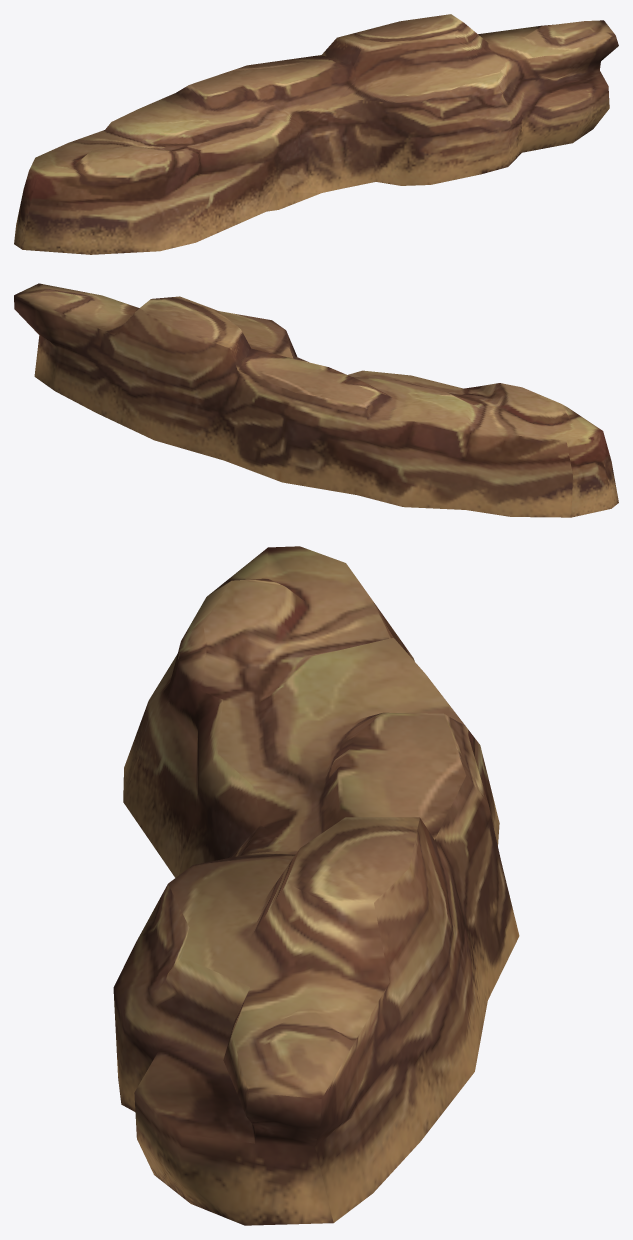
Rendered from shitou02.FBX.
3 views of the same model, one above another, from view 1: azimuth 30°, elevation 25°; view 2: azimuth 150°, elevation 25°; view 3: azimuth 270°, elevation 25° (orthographic). The views are drawn at different scales.
Parts seen in each view (by area): view 1: shitou02; view 2: shitou02; view 3: shitou02.
Part boxes in pixels (x1=…): shitou02: x1=14, y1=14, x2=618, y2=254; shitou02: x1=14, y1=283, x2=618, y2=517; shitou02: x1=113, y1=546, x2=519, y2=1225.
Bounding box in the file's own units: 1262 × 213 × 375.
